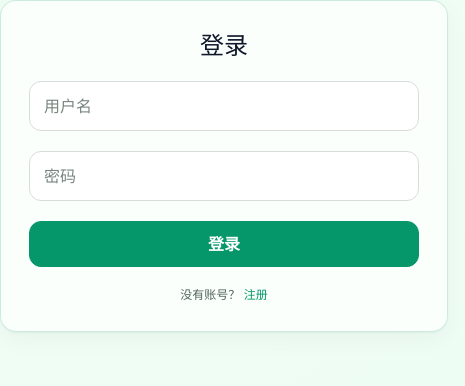
Scenario: 登录页 › 密码不足 6 个字符时阻止登录
Type "ab" into the field labelled "用户名" at (224, 106), box x1=29 y1=81 x2=419 y2=131
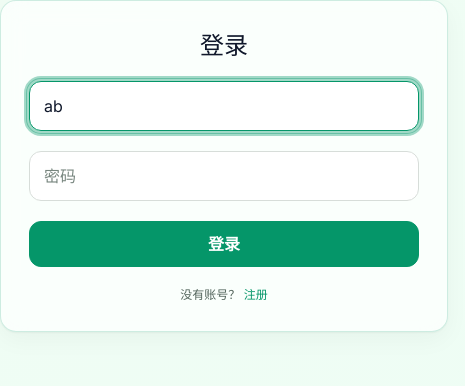
Type "12345" into the password field labelled "密码" at (224, 176), box x1=29 y1=151 x2=419 y2=201
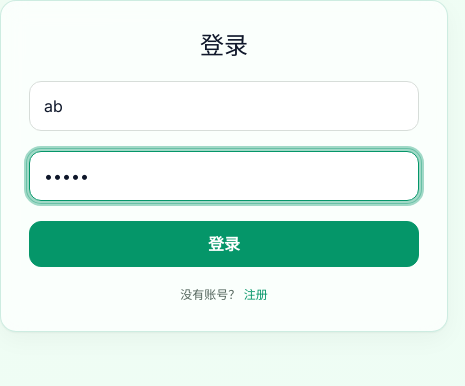
Click the button "登录" at (224, 244), box x1=29 y1=221 x2=419 y2=267
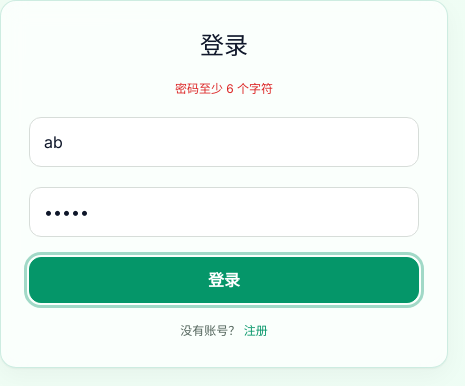
expect the message reads "密码至少 6 个字符": met, box x1=175 y1=81 x2=273 y2=96
